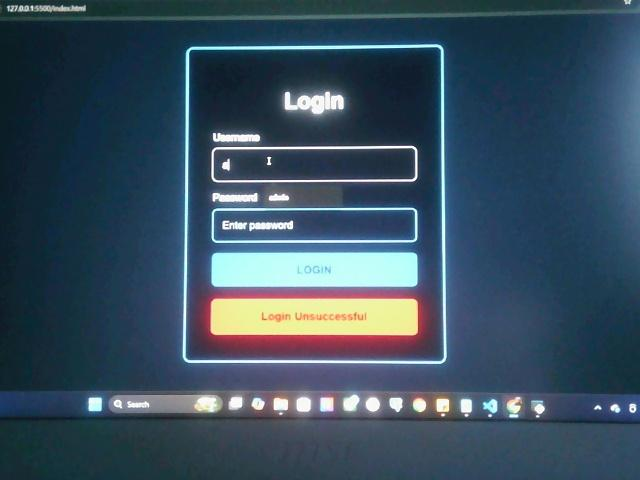login_button: (211, 252, 418, 288)
login_form: (182, 45, 446, 366)
password_input: (211, 207, 420, 245)
title_text: (280, 86, 348, 119)
unsuccess_alert: (210, 297, 417, 336)
username_input: (210, 146, 420, 184)
